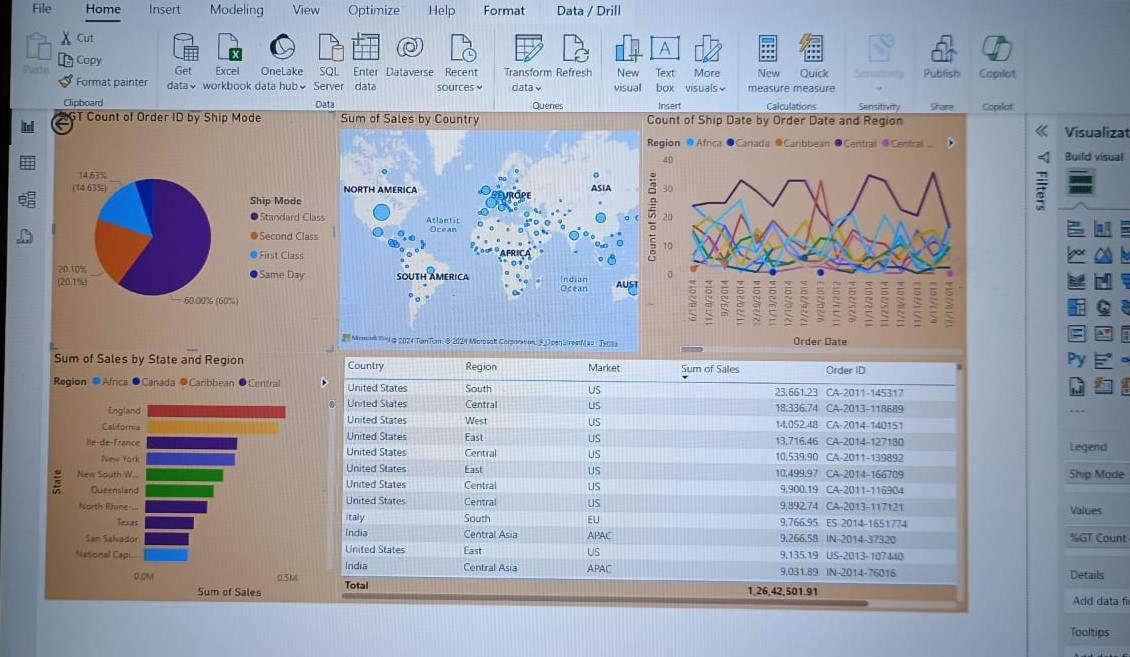

This screenshot's page, from the dashboard's own definition file:
{"tool":"powerbi","page":{"name":"Page 1","canvas":[1280,720],"ordinal":0},"visuals":[{"type":"pieChart","fields":{"Category":["Global Superstore - Orders.Ship Mode"],"Y":["CountNonNull(Global Superstore - Orders.Order ID)"]},"box":[9.7,0,331.8,217.2],"z":0},{"type":"map","fields":{"Category":["Global Superstore - Orders.Country","Global Superstore - Orders.State"],"Size":["Sum(Global Superstore - Orders.Sales)"]},"box":[341.4,0,347.5,217.2],"z":1000},{"type":"lineChart","fields":{"Category":["Global Superstore - Orders.Order Date"],"Y":["CountNonNull(Global Superstore - Orders.Ship Date)"],"Series":["Global Superstore - Orders.Region"]},"box":[688.9,0,374,217.2],"z":2000},{"type":"barChart","fields":{"Category":["Global Superstore - Orders.State"],"Y":["Sum(Global Superstore - Orders.Sales)"],"Series":["Global Superstore - Orders.Region"]},"box":[9.7,217.2,343.8,252.1],"z":3000},{"type":"tableEx","fields":{"Values":["Global Superstore - Orders.Country","Global Superstore - Orders.Region","Global Superstore - Orders.Market","Sum(Global Superstore - Orders.Sales)","Global Superstore - Orders.Order ID"]},"box":[341.4,217.2,721.5,252.1],"z":4000},{"type":"actionButton","box":[0,0,100,40],"z":5000},{"type":"slicer","fields":{"Values":["Global Superstore - Orders.Country"]},"box":[9.7,479,331.8,241.3],"z":5001},{"type":"slicer","fields":{"Values":["Global Superstore - Orders.Region"]},"box":[341.4,479,347.5,241.3],"z":5002},{"type":"slicer","fields":{"Values":["Global Superstore - Orders.Market"]},"box":[688,479,374,241],"z":5003}]}

Visuals, with their boxes on the page's 1280x720 design canvas (x1, y1, x2, y2). These are canvas units, not pixel positions in the 1130x657 screenshot, which may show the page scaled, cropped or inside an application window:
pieChart - Global Superstore - Orders.Ship Mode x CountNonNull(Global Superstore - Orders.Order ID): 10, 0, 342, 217
map - Global Superstore - Orders.Country x Global Superstore - Orders.State: 341, 0, 689, 217
lineChart - Global Superstore - Orders.Order Date x CountNonNull(Global Superstore - Orders.Ship Date): 689, 0, 1063, 217
barChart - Global Superstore - Orders.State x Sum(Global Superstore - Orders.Sales): 10, 217, 354, 469
tableEx - Global Superstore - Orders.Country x Global Superstore - Orders.Region: 341, 217, 1063, 469
actionButton: 0, 0, 100, 40
slicer - Global Superstore - Orders.Country: 10, 479, 342, 720
slicer - Global Superstore - Orders.Region: 341, 479, 689, 720
slicer - Global Superstore - Orders.Market: 688, 479, 1062, 720
